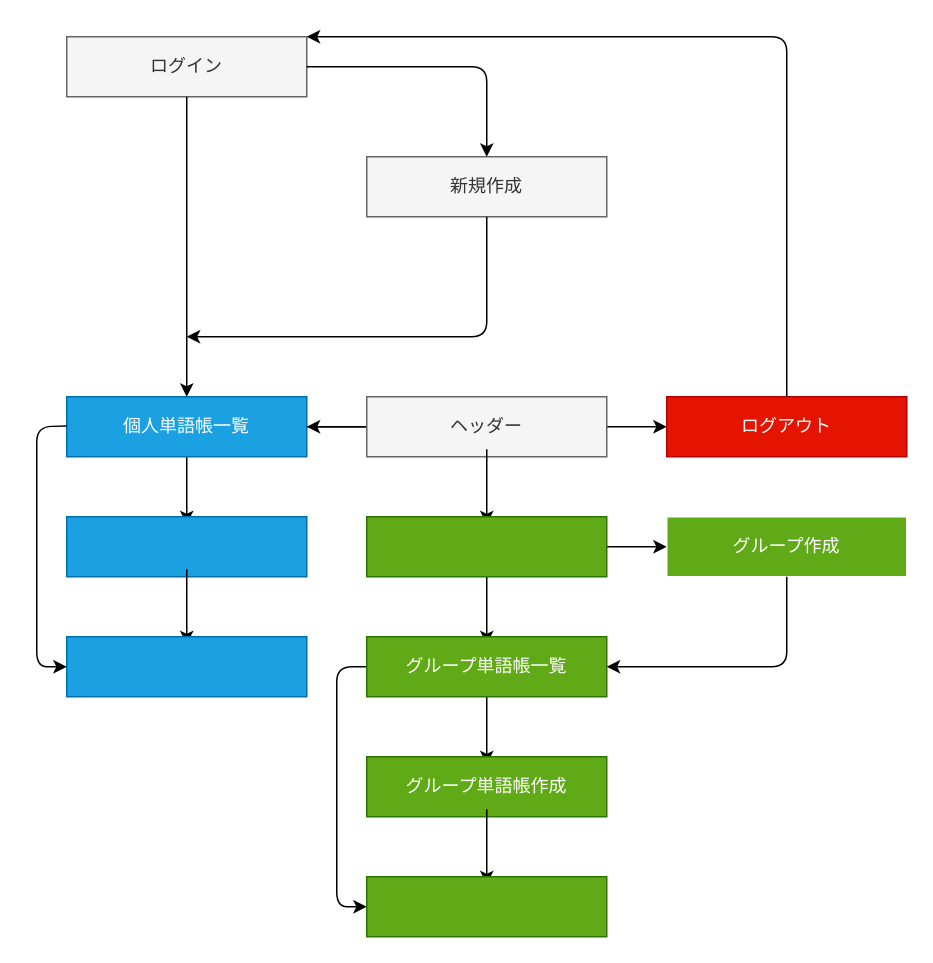
The diagram is 933 pixels wide and 963 high, and some of its shapes have lost their labels. The box of each missing label's shape, as (x1, y1, x2, y2) in pixels:
グループ一覧: (365, 515, 607, 577)
グループ単語帳詳細: (365, 875, 607, 937)
個人単語帳作成: (65, 515, 307, 577)
個人単語帳詳細: (65, 635, 307, 697)
